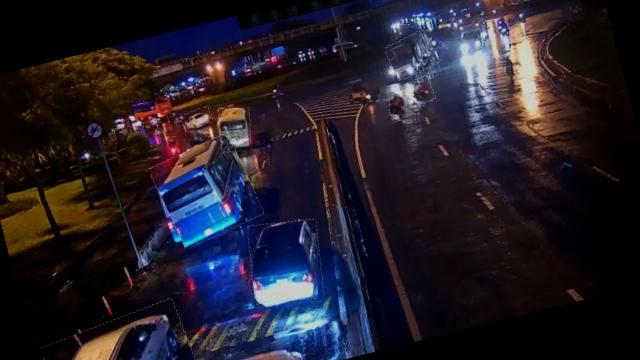Bike: (409, 76, 436, 106), (386, 89, 410, 121), (165, 136, 180, 158)
Bus: (150, 134, 264, 250), (214, 104, 258, 156)
Car: (39, 300, 204, 360), (240, 213, 332, 310), (183, 106, 214, 130)
Truck: (384, 30, 439, 80)
